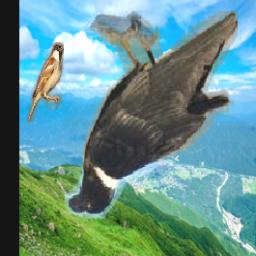Crow: (66, 12, 239, 223)
Sparrow: (27, 42, 64, 122)
